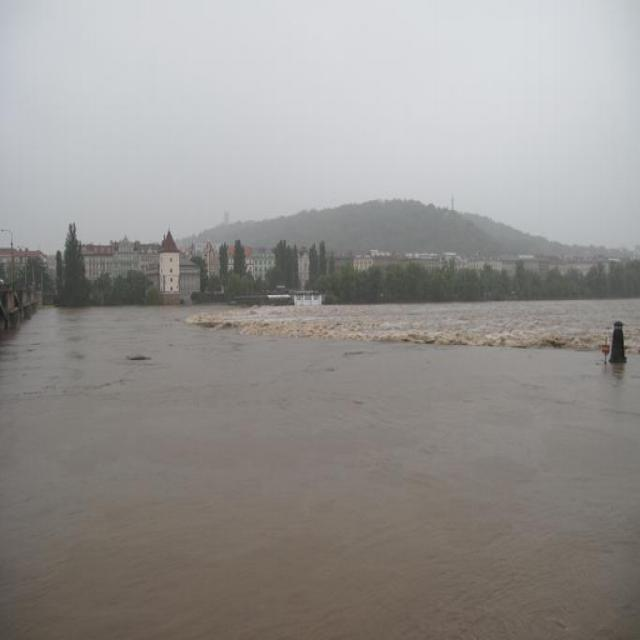flood: (0, 295, 638, 640)
